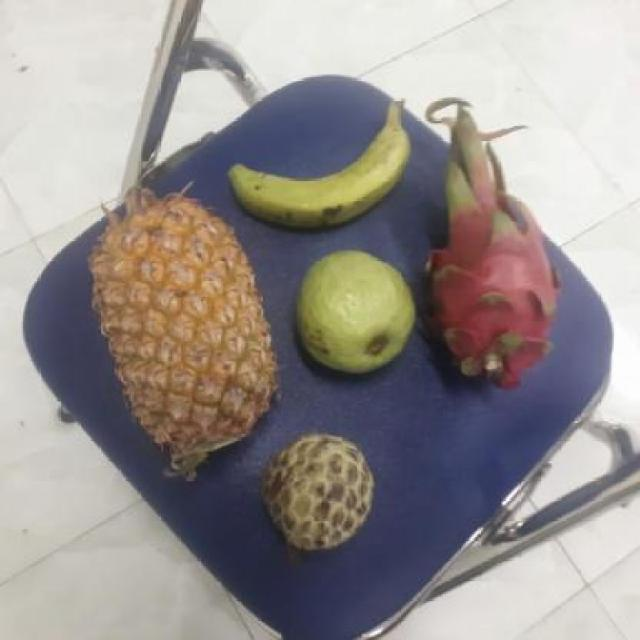banana: (225, 113, 406, 230)
dragon fruit: (415, 169, 560, 383)
guava: (289, 250, 416, 373)
pineapple: (81, 194, 277, 465)
sugar apple: (256, 432, 376, 552)
